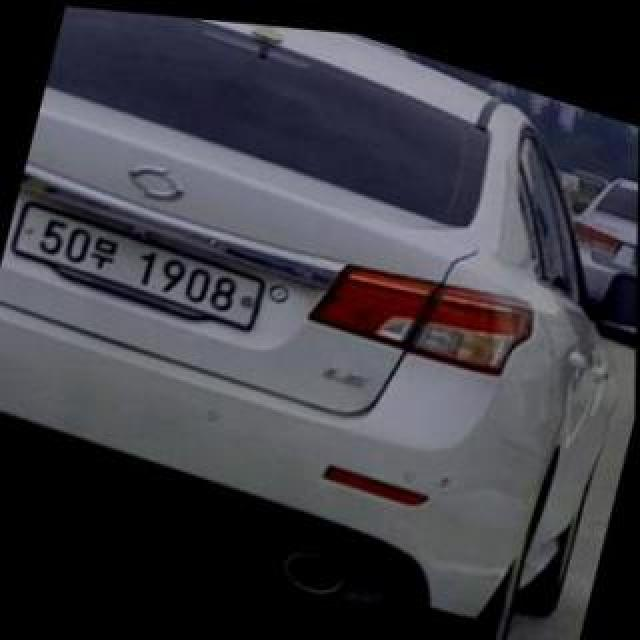car: (18, 12, 628, 640)
illegal_plate: (20, 201, 262, 341)
